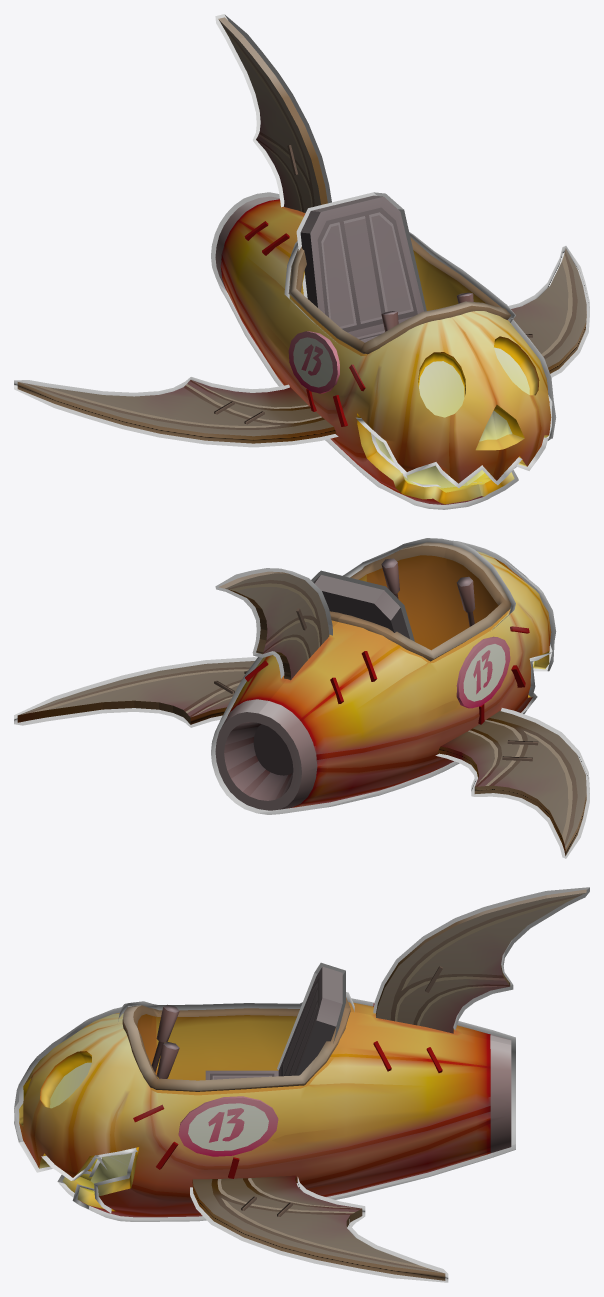
File: pickup_airplaneZombie_outline_MESH.glb
3 views of the same model, one above another, from view 1: azimuth 30°, elevation 25°; view 2: azimuth 150°, elevation 25°; view 3: azimuth 270°, elevation 25° (orthographic).
Visible parts, largest first — view 1: AirplaneZombie_outline; view 2: AirplaneZombie_outline; view 3: AirplaneZombie_outline.
Boxes of the visible parts, x1,y1,x2,y2 form: AirplaneZombie_outline: (14,14,589,509); AirplaneZombie_outline: (14,538,589,858); AirplaneZombie_outline: (14,887,589,1282).
Size of the model in its own units: 1.36 by 0.7507 by 1.22.
